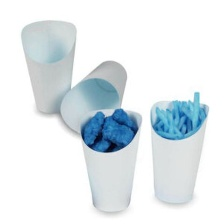paper_cup: (76, 105, 144, 216), (145, 94, 211, 207), (16, 15, 81, 119), (53, 57, 133, 140)
